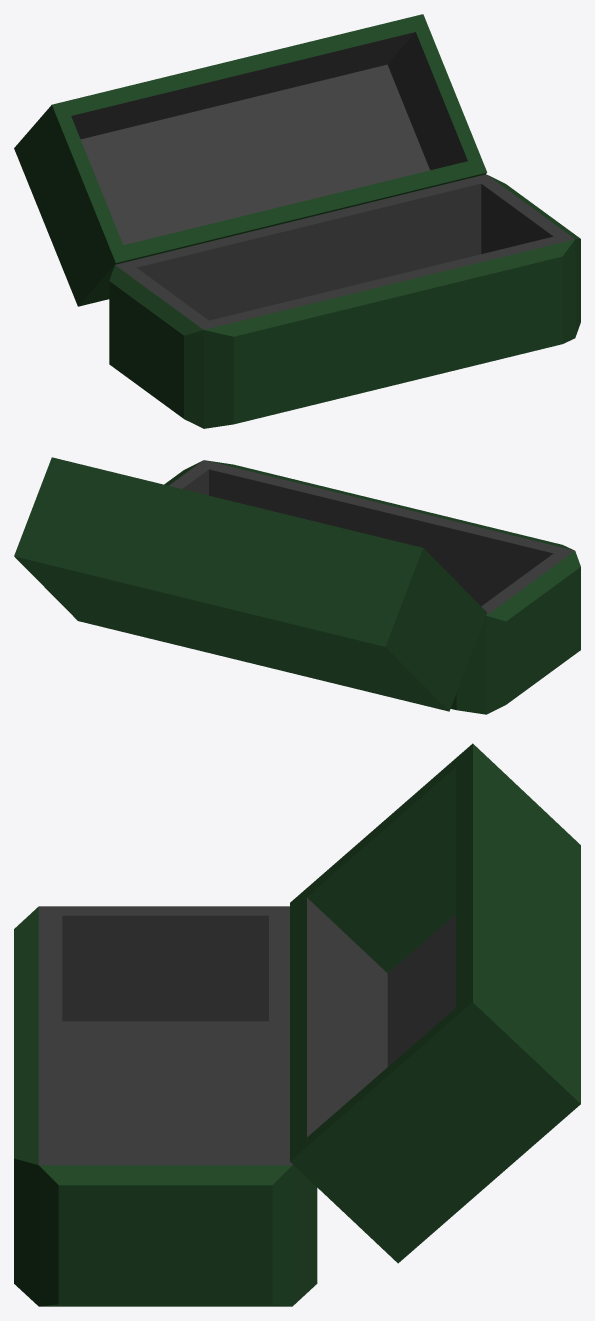
The model's file is Cargo.fbx.
3 renders of one model, top to bottom at view 1: azimuth 30°, elevation 25°; view 2: azimuth 150°, elevation 25°; view 3: azimuth 270°, elevation 25°, orthographic. The views are drawn at different scales.
Parts seen in each view (by area): view 1: Cargo; view 2: Cargo; view 3: Cargo.
Part boxes in pixels (x1,y1,x2,y2): Cargo: [14, 14, 580, 428]; Cargo: [14, 457, 580, 714]; Cargo: [14, 743, 580, 1306].
Bounding box in the file's own units: 516 × 265 × 447.
